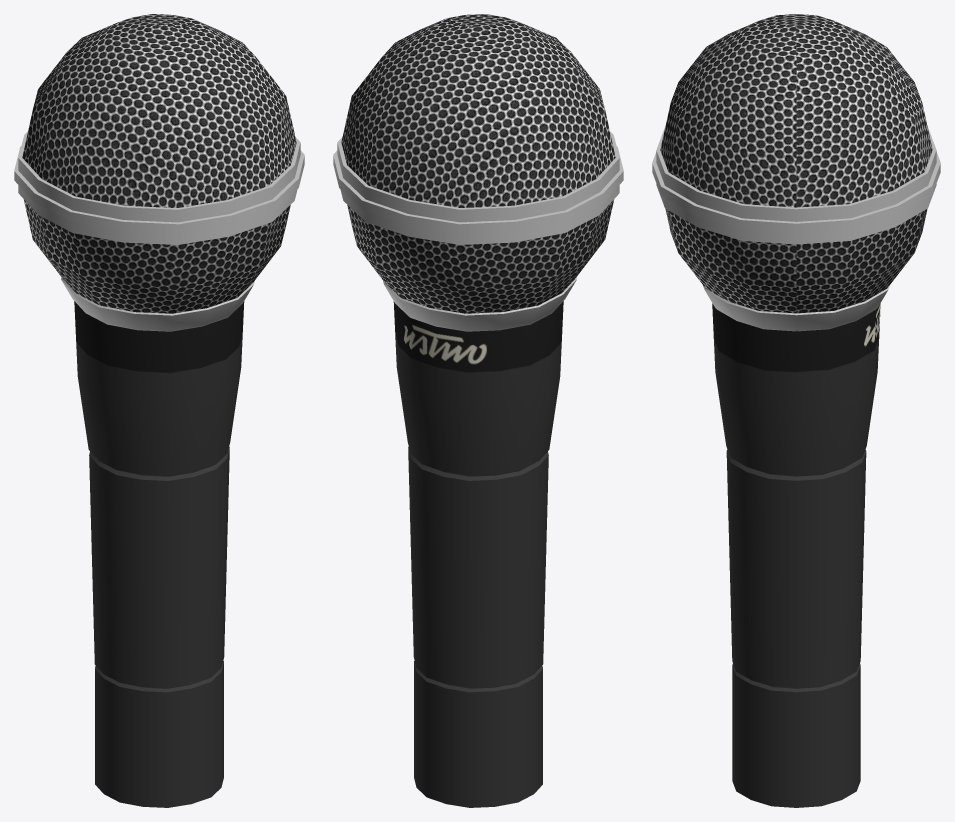
Rendered from microphone.fbx.
The picture shows the model from 3 angles, left to right: view 1: azimuth 30°, elevation 25°; view 2: azimuth 150°, elevation 25°; view 3: azimuth 270°, elevation 25°; orthographic projection.
Parts seen in each view (by area): view 1: microphone; view 2: microphone; view 3: microphone.
Part boxes in pixels (left/top/right/bottom): microphone: left=14, top=14, right=304, bottom=807; microphone: left=333, top=14, right=623, bottom=807; microphone: left=652, top=14, right=940, bottom=807.
Size of the model in its own units: 371 by 1069 by 371.
